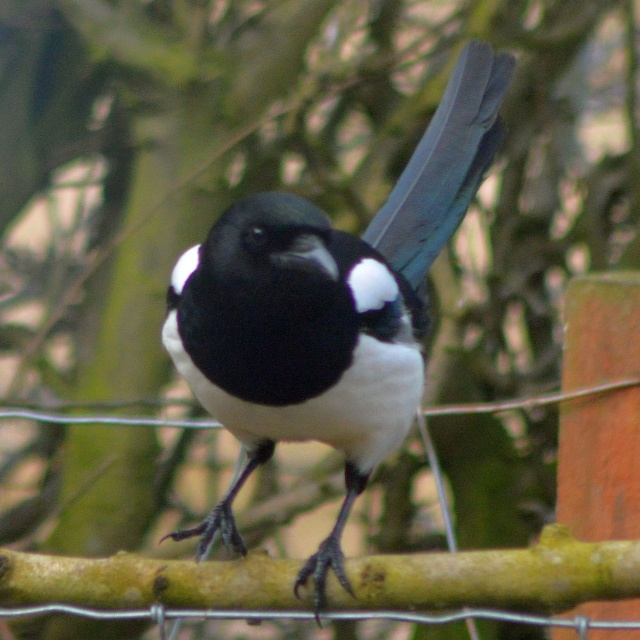Magpie: (156, 34, 518, 628)
